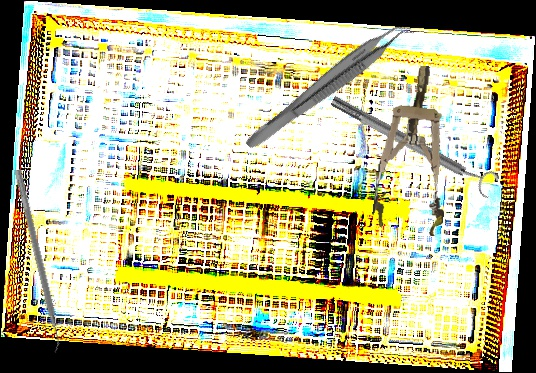Fixation Ring: (326, 86, 501, 201)
Spatula Surgical: (6, 168, 67, 355)
Speculum: (370, 61, 462, 238)
Tissue Forceps: (242, 13, 416, 160)
